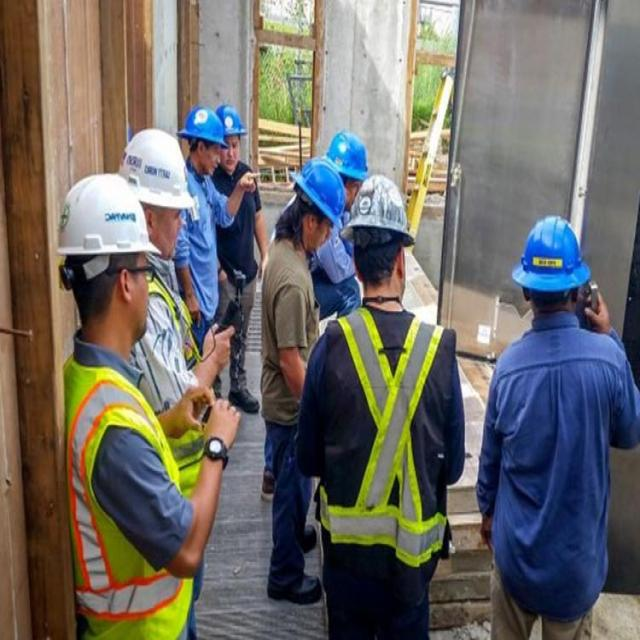Reflective-Jacket: (59, 350, 198, 640), (317, 306, 454, 571)
Safety-Helmet: (51, 164, 157, 266), (511, 208, 593, 294), (118, 120, 194, 212), (343, 168, 422, 245), (291, 154, 346, 224), (321, 126, 371, 180), (176, 98, 228, 148), (216, 98, 247, 140)
